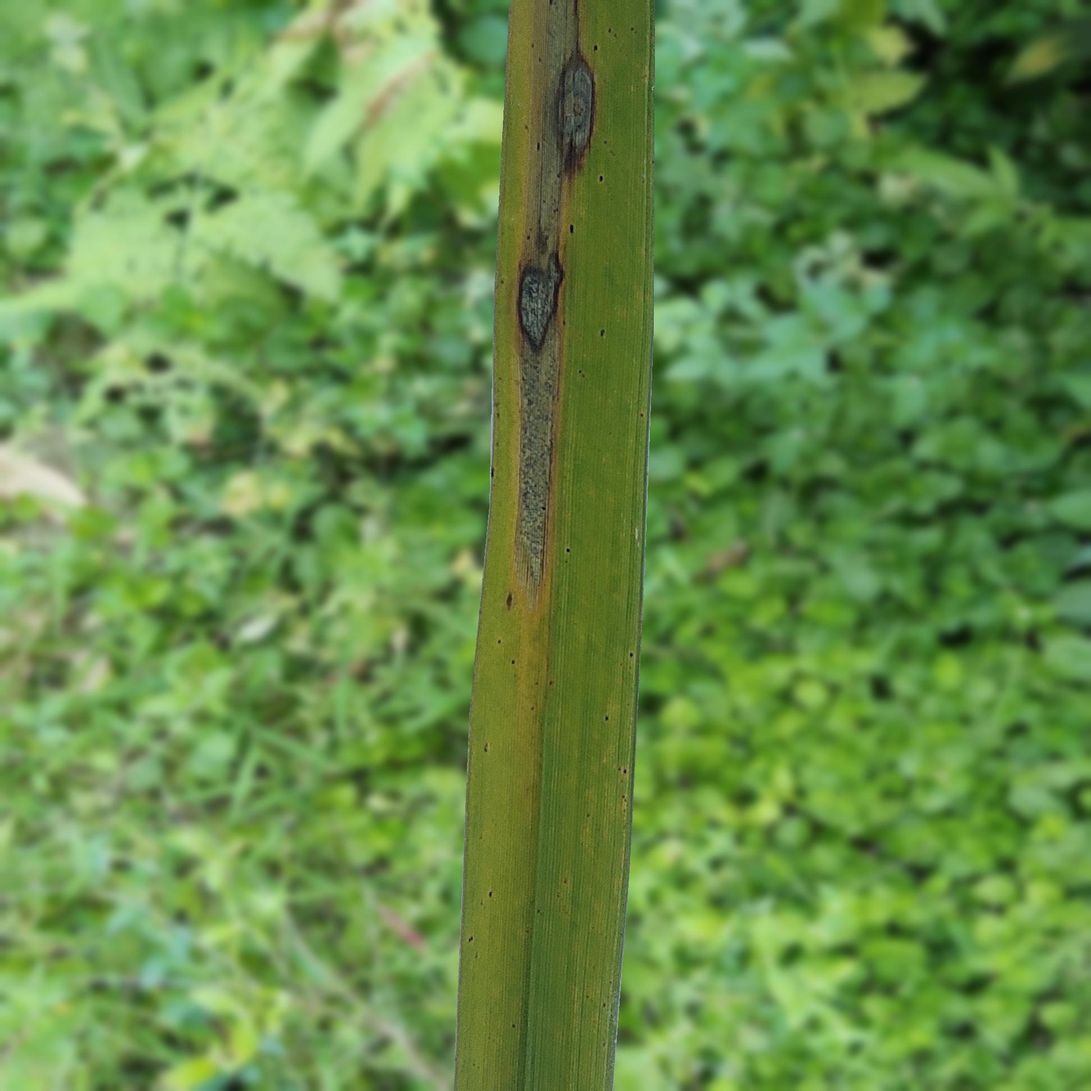LEAF BLAST: (516, 0, 595, 587), (558, 54, 593, 166), (519, 255, 560, 349)
